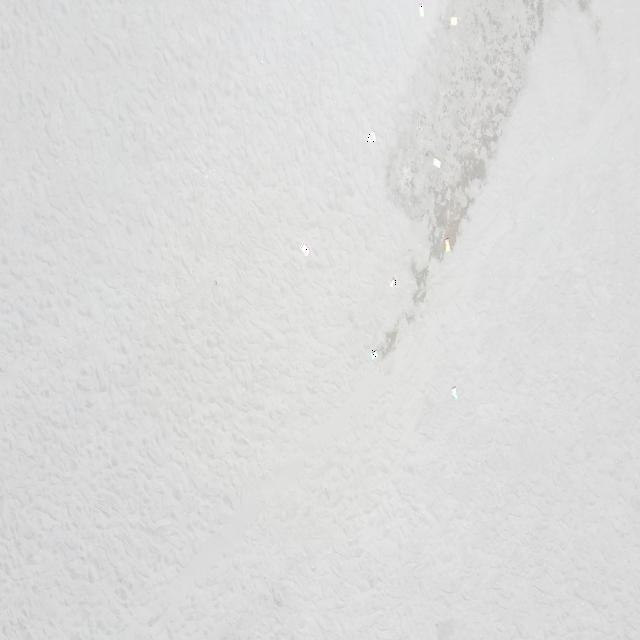retort-pouch: (299, 240, 311, 258), (444, 236, 451, 254), (366, 131, 376, 143), (418, 0, 424, 20), (450, 14, 460, 25), (432, 158, 442, 169), (370, 349, 379, 361), (452, 386, 458, 402), (389, 276, 396, 286)
